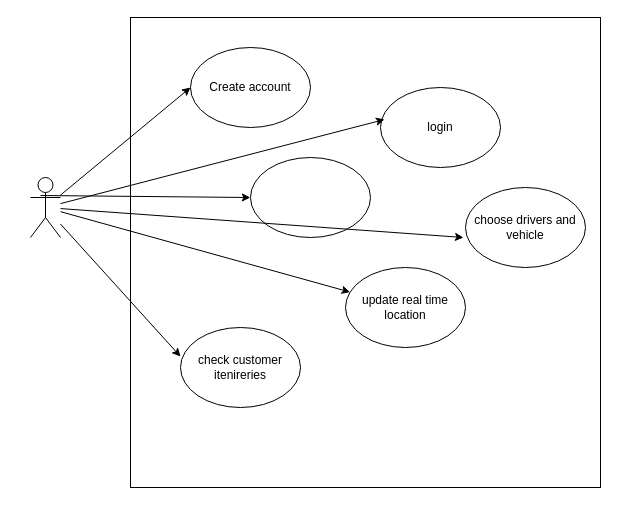
This 618x505 diagram has some shape labels left out. Here are the shapes that lost their labels. From the top down, the centre of each, then its label:
At point 45,207: "Tour guide".
At point 310,197: "logout".
